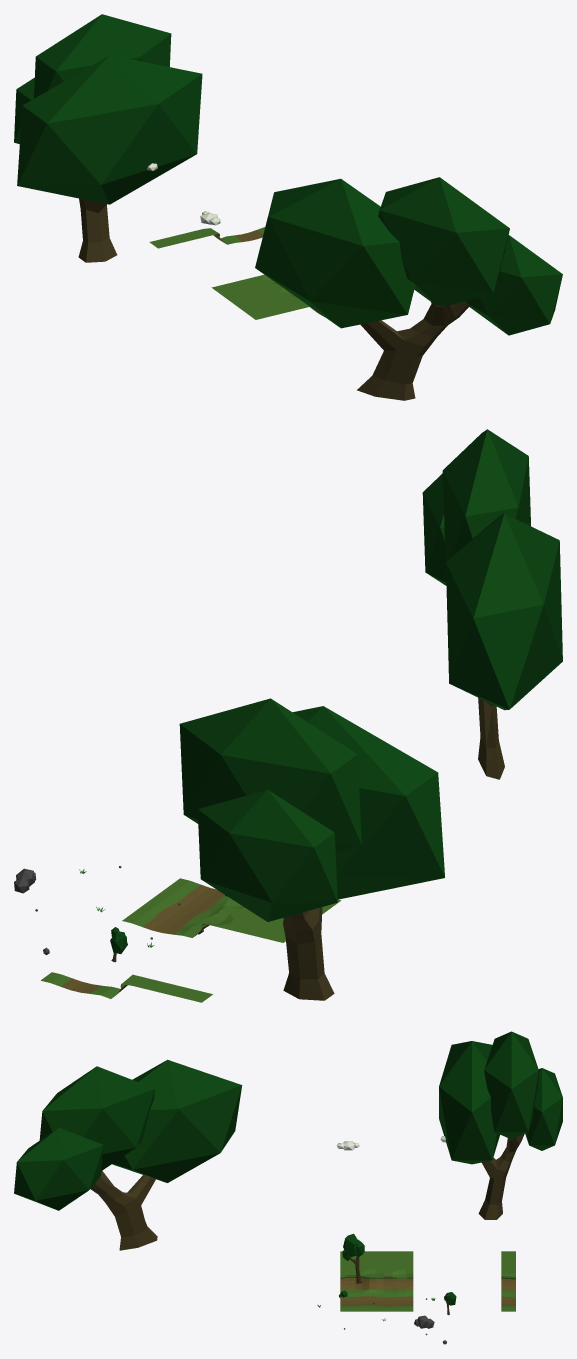
Rendered from FloorTile_withConnector.dae.
3 views of the same model, one above another, from view 1: azimuth 30°, elevation 25°; view 2: azimuth 150°, elevation 25°; view 3: azimuth 270°, elevation 25° (orthographic). The views are drawn at different scales.
Visible parts, largest first — view 1: Tree2_02_003, Tree2_01_002, Ground_006, Ground_005; view 2: Tree2_01_002, Tree2_02_003, Ground_006, Ground_005; view 3: Tree2_02_003, Tree2_01_002, Ground_006, Ground_005, Tree1_01_002.
Boxes of the visible parts, bbox=[...] form: Tree2_02_003: bbox=[255, 177, 562, 400]; Tree2_01_002: bbox=[14, 14, 202, 262]; Ground_006: bbox=[211, 274, 324, 319]; Ground_005: bbox=[149, 227, 265, 248]; Tree2_01_002: bbox=[179, 698, 444, 1000]; Tree2_02_003: bbox=[422, 429, 562, 779]; Ground_006: bbox=[122, 878, 341, 942]; Ground_005: bbox=[41, 972, 212, 1002]; Tree2_02_003: bbox=[14, 1059, 242, 1250]; Tree2_01_002: bbox=[439, 1031, 562, 1219]; Ground_006: bbox=[340, 1251, 413, 1311]; Ground_005: bbox=[501, 1251, 515, 1311]; Tree1_01_002: bbox=[342, 1233, 364, 1283].
Size of the model in its own units: 46.2 by 74.99 by 34.32.
